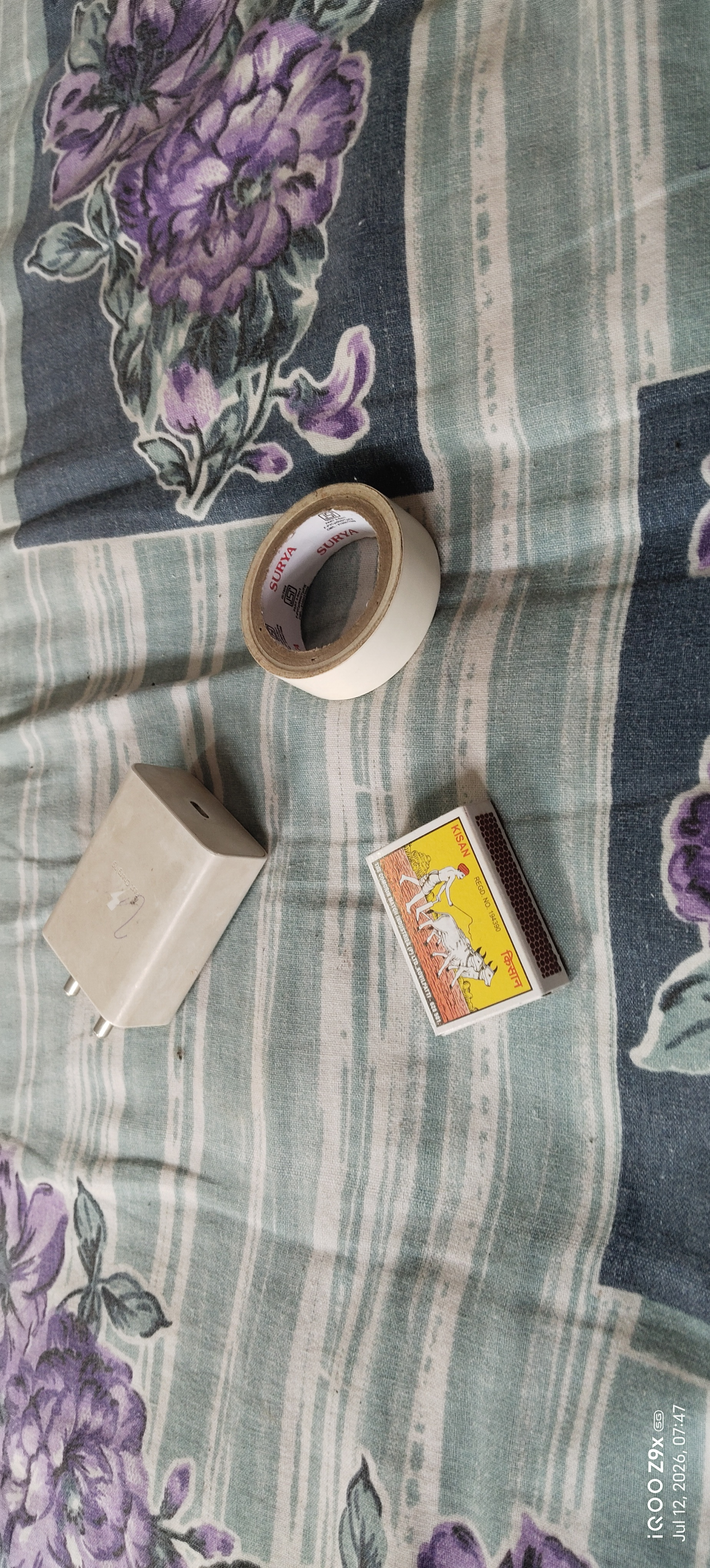charger: (24, 754, 277, 1057)
matchbox: (355, 789, 587, 1057)
tape_roll: (216, 472, 460, 715)
